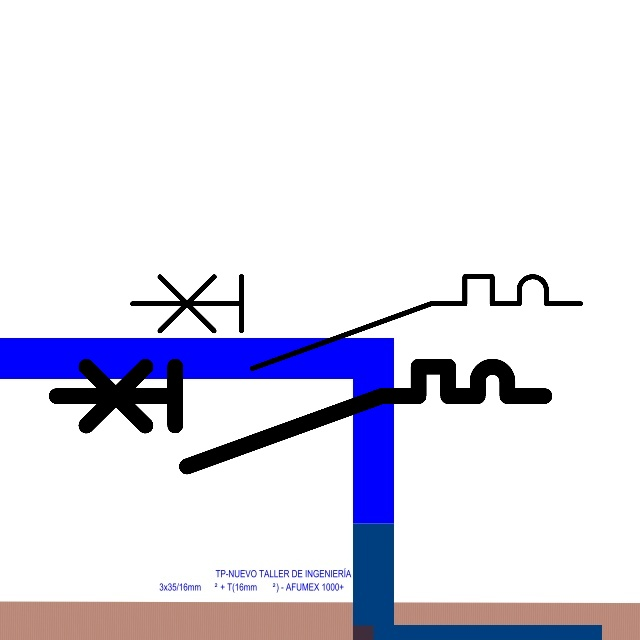interruptor_termomagnetico: (44, 354, 557, 479), (121, 265, 592, 380)
